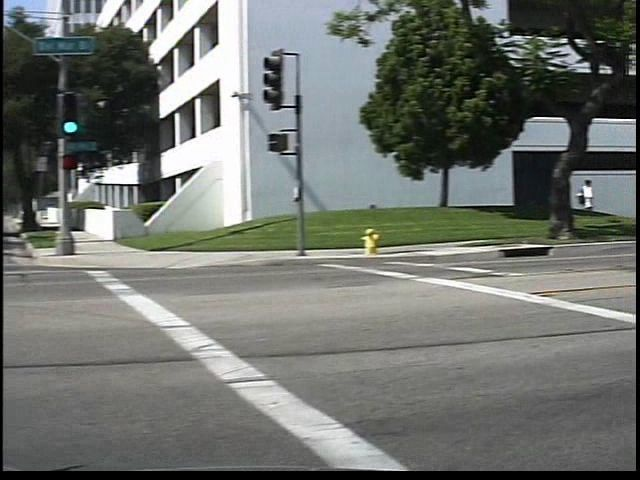person: (589, 172, 610, 234)
